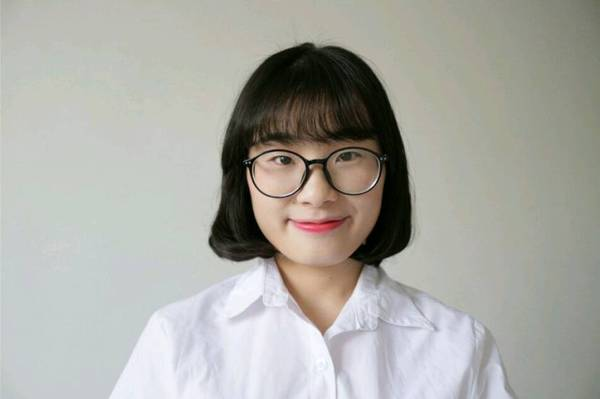unmask: (246, 117, 391, 260)
